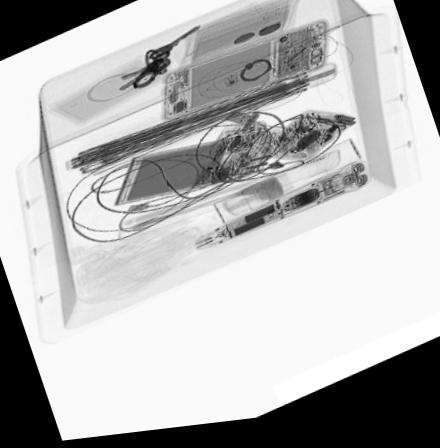Powerbank: (110, 132, 277, 211)
